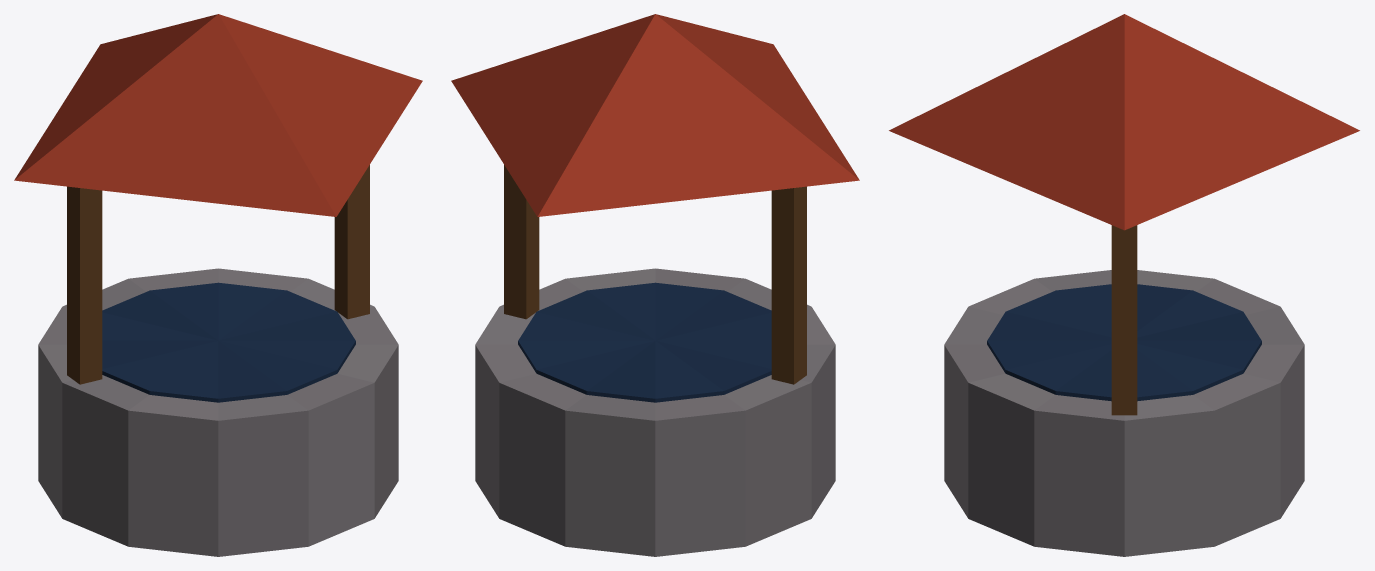
The model's file is p_well.glb.
3 views of the same model, side by side, from view 1: azimuth 30°, elevation 25°; view 2: azimuth 150°, elevation 25°; view 3: azimuth 270°, elevation 25° (orthographic).
Parts seen in each view (by area): view 1: p_well; view 2: p_well; view 3: p_well.
Part boxes in pixels (x1,y1,x2,y2): p_well: (14, 14, 422, 556); p_well: (451, 14, 859, 556); p_well: (889, 14, 1359, 556).
Size of the model in its own units: 1.1 by 1.2 by 1.1.
